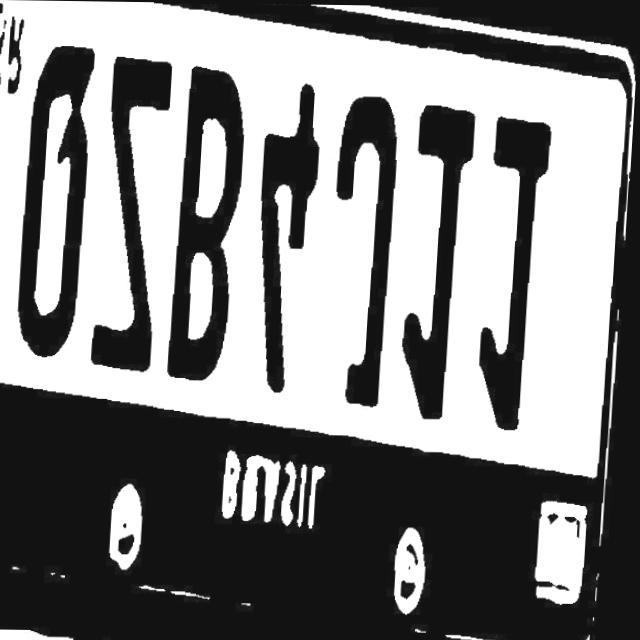1: (393, 101, 481, 418), (476, 109, 560, 430)
4: (243, 77, 331, 394)
b: (166, 61, 255, 385)
j: (320, 91, 403, 407)
q: (13, 39, 103, 361)
z: (89, 52, 179, 374)
